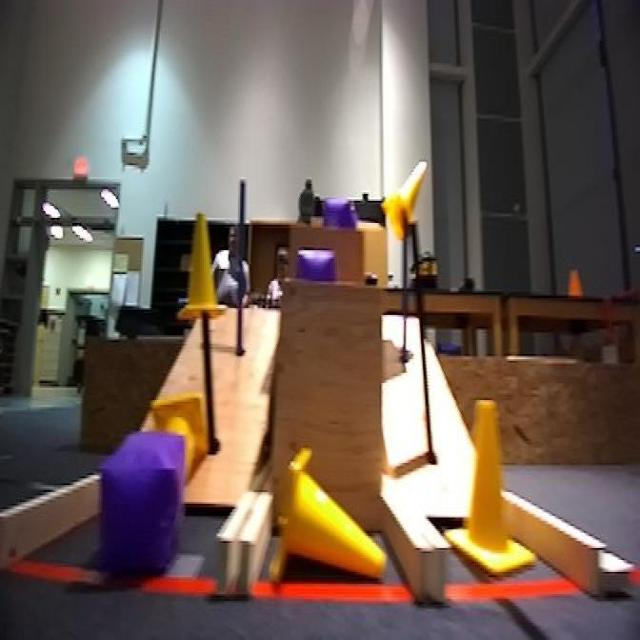frc_cone: (457, 386, 537, 591), (281, 449, 397, 577), (187, 221, 237, 330), (150, 394, 206, 484), (384, 153, 430, 242)
frc_cube: (92, 434, 181, 579), (317, 194, 353, 247), (296, 242, 334, 289)
